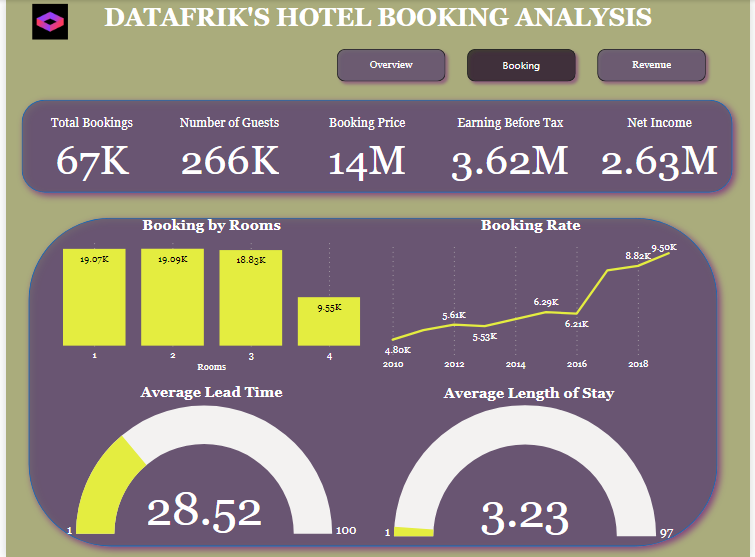

The page's visual inventory and layout, read from the dashboard file:
{"tool":"powerbi","page":{"name":"Booking","canvas":[960,720],"ordinal":1},"visuals":[{"type":"shape","box":[5.7,114,947.1,150],"z":0},{"type":"textbox","box":[0,0,960,55.7],"z":1000},{"type":"image","box":[12.9,0,88.6,55.7],"z":2000},{"type":"cardVisual","fields":{"Data":["Hotel_Booking.Total Booking"]},"box":[23.2,131.6,175.5,113.5],"z":3000},{"type":"cardVisual","fields":{"Data":["Hotel_Booking.# Guests"]},"box":[201,131.6,174.2,113.5],"z":4000},{"type":"cardVisual","fields":{"Data":["Hotel_Booking.Total Booking Price"]},"box":[377.4,131.6,176.8,113.5],"z":5000},{"type":"cardVisual","fields":{"Data":["Hotel_Booking.Total Earning Before Tax"]},"box":[556.5,131.6,189.7,113.5],"z":6000},{"type":"cardVisual","fields":{"Data":["Hotel_Booking.Total Net Income"]},"box":[748.4,131.6,191,113.5],"z":7000},{"type":"bookmarkNavigator","box":[418.1,54,494.2,60.6],"z":8000},{"type":"shape","box":[14.2,265.8,918.7,454.2],"z":8001},{"type":"columnChart","title":"Booking by Rooms","fields":{"Category":["Hotel_Booking.Rooms"],"Y":["Hotel_Booking.Total Booking"]},"box":[69,280,394,205],"z":8002},{"type":"lineChart","title":"Booking Rate","fields":{"Category":["Hotel_Booking.Date of Booking.Variation.Date Hierarchy.Year","Hotel_Booking.Date of Booking.Variation.Date Hierarchy.Quarter","Hotel_Booking.Date of Booking.Variation.Date Hierarchy.Month","Hotel_Booking.Date of Booking.Variation.Date Hierarchy.Day"],"Y":["Hotel_Booking.Total Booking"]},"box":[480,280,394,205],"z":8003},{"type":"gauge","title":"Average Lead Time","fields":{"Y":["Hotel_Booking.Avg Lead Time"],"MinValue":["Hotel_Booking.Min Lead Time"],"MaxValue":["Hotel_Booking.Max Lead Time"]},"box":[69,496,394,205],"z":8004},{"type":"gauge","title":"Average Length of Stay","fields":{"Y":["Hotel_Booking.Avg Length of Stay"],"MinValue":["Hotel_Booking.Min Length of Stay"],"MaxValue":["Hotel_Booking.Max Length of Stay"]},"box":[478,497,394.8,205.2],"z":8005}]}

Visuals, with their boxes in screenshot pixels (x1, y1, x2, y2), scaled from the page's 960x720 canvas onto the 755x557 screenshot:
shape: detection(4, 88, 749, 204)
textbox: detection(0, 0, 754, 43)
image: detection(10, 0, 80, 43)
cardVisual - Hotel_Booking.Total Booking: detection(18, 102, 156, 190)
cardVisual - Hotel_Booking.# Guests: detection(158, 102, 295, 190)
cardVisual - Hotel_Booking.Total Booking Price: detection(297, 102, 436, 190)
cardVisual - Hotel_Booking.Total Earning Before Tax: detection(438, 102, 587, 190)
cardVisual - Hotel_Booking.Total Net Income: detection(589, 102, 739, 190)
bookmarkNavigator: detection(329, 42, 717, 89)
shape: detection(11, 206, 734, 556)
"Booking by Rooms" columnChart: detection(54, 217, 364, 375)
"Booking Rate" lineChart: detection(378, 217, 687, 375)
"Average Lead Time" gauge: detection(54, 384, 364, 542)
"Average Length of Stay" gauge: detection(376, 384, 686, 543)
